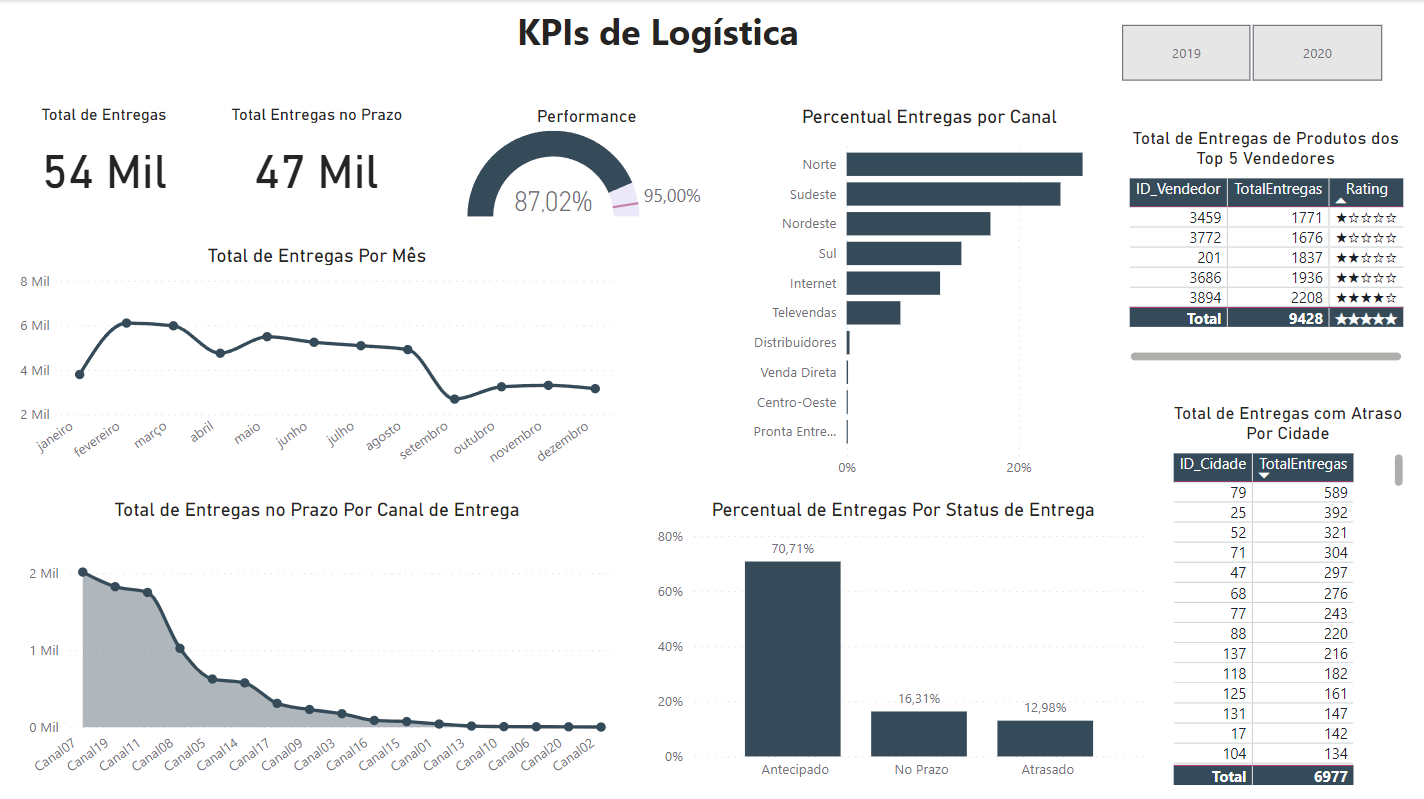

What the dashboard file says about the page in this screenshot:
{"tool":"powerbi","page":{"name":"Página 1","canvas":[1280,720],"ordinal":0},"visuals":[{"type":"areaChart","title":"Total de Entregas no Prazo Por Canal de Entrega","fields":{"Category":["Logistica.Canal_Entrega"],"Y":["Medidas.TotalEntregas"]},"box":[14.6,446.1,542.3,267.3],"z":0},{"type":"textbox","box":[249.8,0,691,58.3],"z":1},{"type":"clusteredBarChart","title":"Percentual Entregas por Canal","fields":{"Category":["Logistica.Equipe_Entrega"],"Y":["Medidas.TotalEntregas"]},"box":[659.9,94.3,347.9,343.1],"z":2},{"type":"lineChart","title":"Total de Entregas Por Mês","fields":{"Category":["Logistica.Data_Entrega_Prevista.Variation.Hierarquia de datas.Mês"],"Y":["Medidas.TotalEntregas"]},"box":[14.6,218.7,542.3,218.7],"z":3},{"type":"tableEx","title":"Total de Entregas de Produtos dos Top 5 Vendedores","fields":{"Values":["Logistica.ID_Vendedor","Medidas.TotalEntregas","Medidas.Rating"]},"box":[1007.9,113.7,255.6,214.8],"z":4},{"type":"tableEx","title":"Total de Entregas com Atraso Por Cidade","fields":{"Values":["Logistica.ID_Cidade","Medidas.TotalEntregas"]},"box":[1046.7,359.6,216.7,347.9],"z":5},{"type":"clusteredColumnChart","title":"Percentual de Entregas Por Status de Entrega","fields":{"Category":["Logistica.Status_Entrega"],"Y":["Medidas.TotalEntregas"]},"box":[586.1,446.1,450,261.4],"z":6},{"type":"card","title":"Total de Entregas","fields":{"Values":["Medidas.TotalEntregas"]},"box":[0,94.3,189.5,93.3],"z":7},{"type":"card","title":"Total Entregas no Prazo","fields":{"Values":["Medidas.TotalEntreganoPrazo"]},"box":[197.3,94.3,176.9,93.3],"z":8},{"type":"gauge","title":"Performance","fields":{"Y":["Medidas.PercentualNoPrazo"]},"box":[404.3,94.3,246.9,105],"z":9},{"type":"slicer","fields":{"Values":["Logistica.Data_Entrega_Prevista.Variation.Hierarquia de datas.Ano"]},"box":[980.7,15.6,282.8,64.1],"z":10}]}

Visuals, with their boxes in screenshot pixels (x1, y1, x2, y2), scaled from the page's 1280x720 canvas onto the 1424x799 screenshot:
"Total de Entregas no Prazo Por Canal de Entrega" areaChart: [left=16, top=495, right=620, bottom=792]
textbox: [left=278, top=0, right=1047, bottom=65]
"Percentual Entregas por Canal" clusteredBarChart: [left=734, top=105, right=1121, bottom=485]
"Total de Entregas Por Mês" lineChart: [left=16, top=243, right=620, bottom=485]
"Total de Entregas de Produtos dos Top 5 Vendedores" tableEx: [left=1121, top=126, right=1406, bottom=365]
"Total de Entregas com Atraso Por Cidade" tableEx: [left=1164, top=399, right=1406, bottom=785]
"Percentual de Entregas Por Status de Entrega" clusteredColumnChart: [left=652, top=495, right=1153, bottom=785]
"Total de Entregas" card: [left=0, top=105, right=211, bottom=208]
"Total Entregas no Prazo" card: [left=219, top=105, right=416, bottom=208]
"Performance" gauge: [left=450, top=105, right=724, bottom=221]
slicer - Logistica.Data_Entrega_Prevista.Variation.Hierarquia de datas.Ano: [left=1091, top=17, right=1406, bottom=88]
